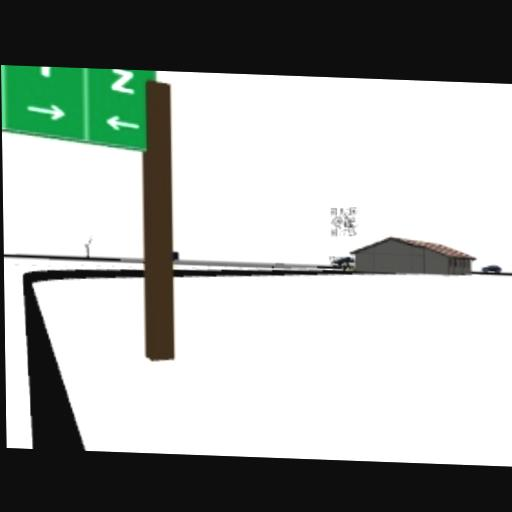Left: (104, 113, 139, 130)
Right: (25, 101, 66, 120)
Y: (31, 65, 59, 76)
Z: (109, 68, 133, 93)
